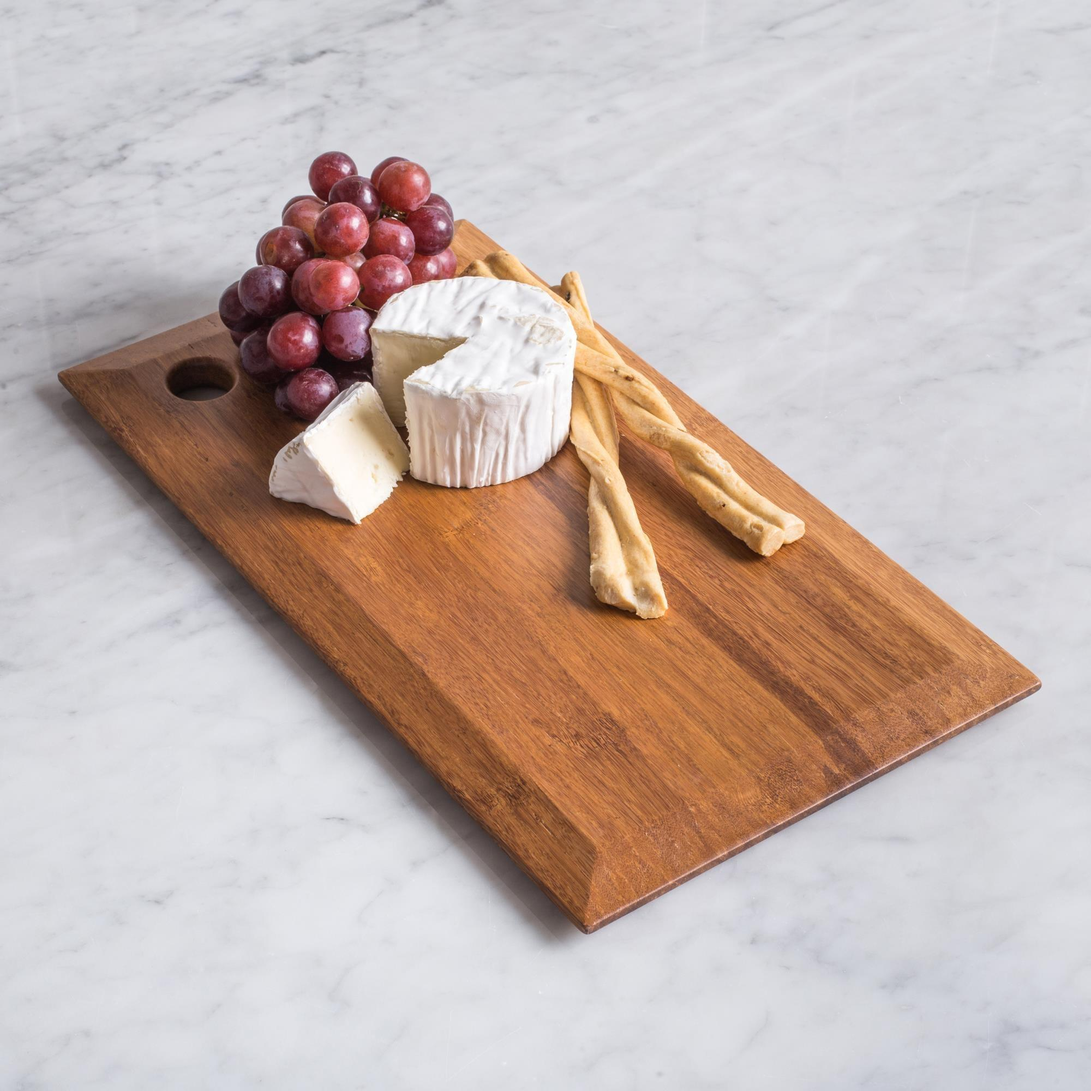gloved_hand: (58, 175, 1042, 942)
